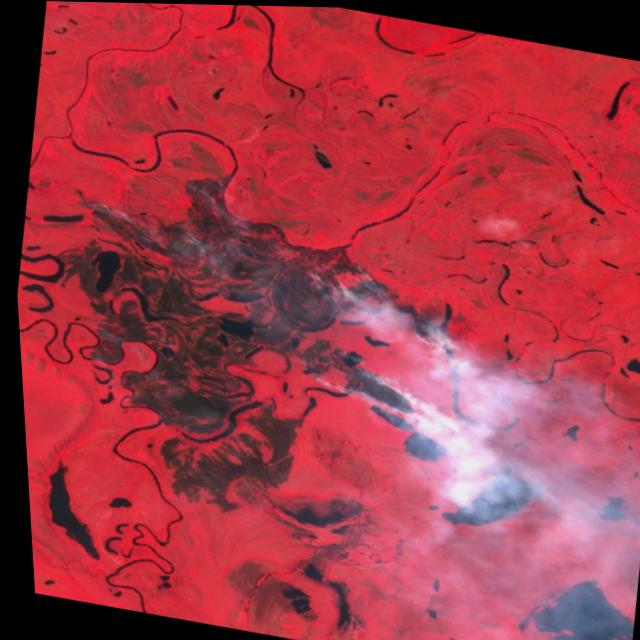fire: (39, 138, 468, 446)
